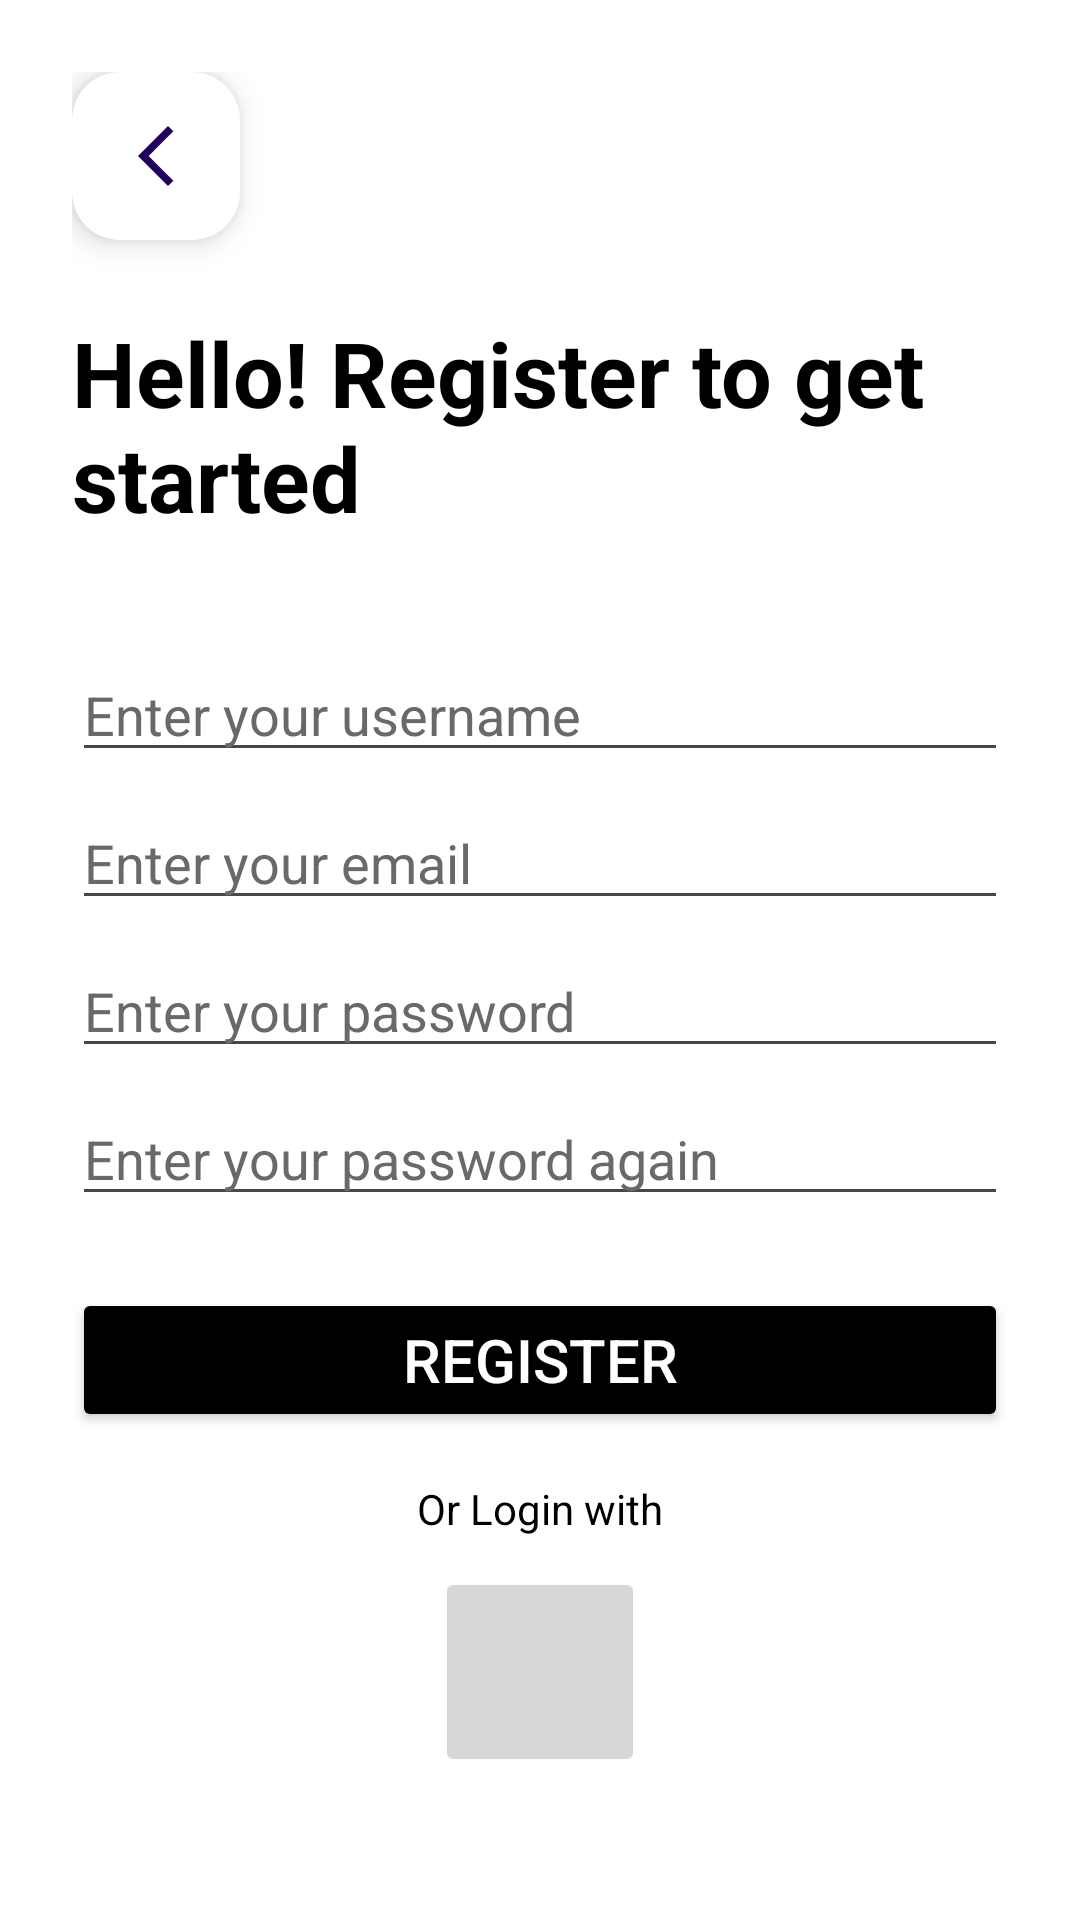

Icon bounding boxes for this 1080×1920 phone screenshot, format (x1,y1,x2,y2):
back: (72,78,203,240)
